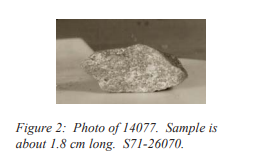Basalt: (55, 29, 202, 100)
